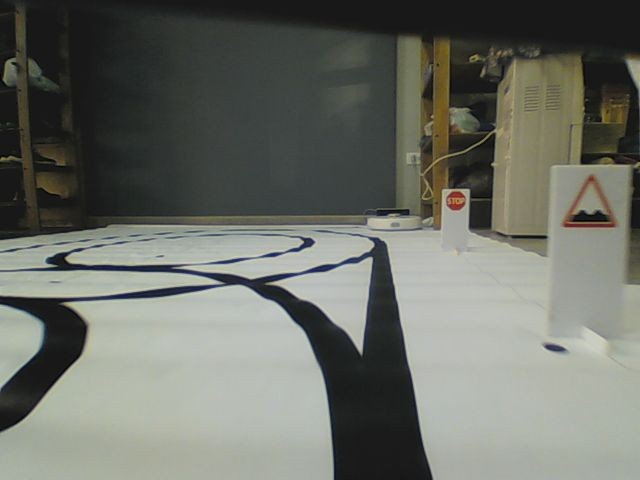Stop: (444, 191, 467, 211)
